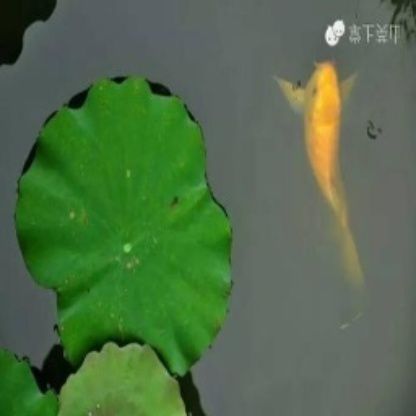leaf: (16, 75, 232, 359)
